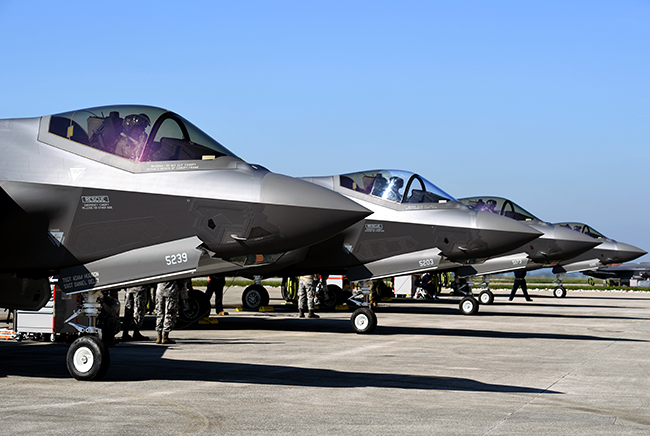F-35 Lightning: (7, 77, 370, 402), (332, 151, 547, 308), (462, 189, 599, 279), (560, 217, 649, 277)
